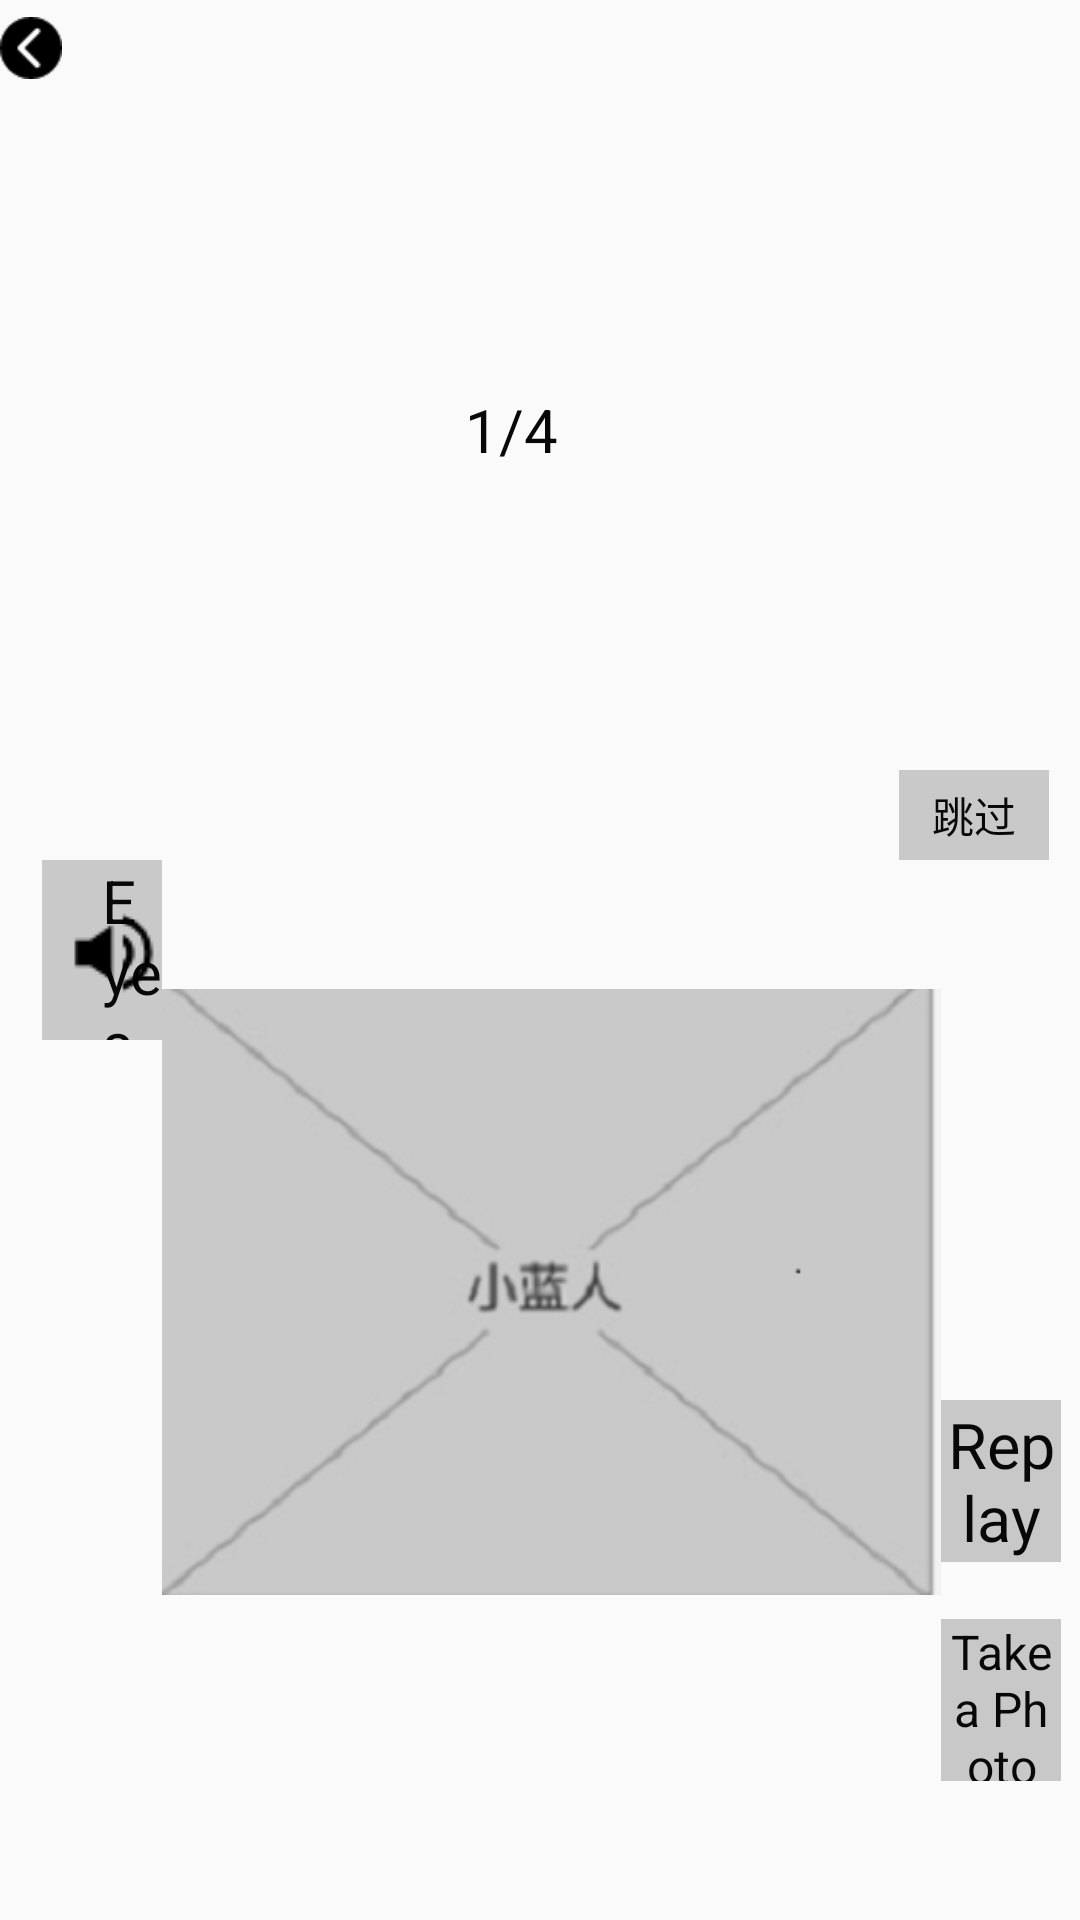

Icons on this 1080w x 1920h Android screen, each with the point to tap as point (x, y):
return: point (31, 48)
